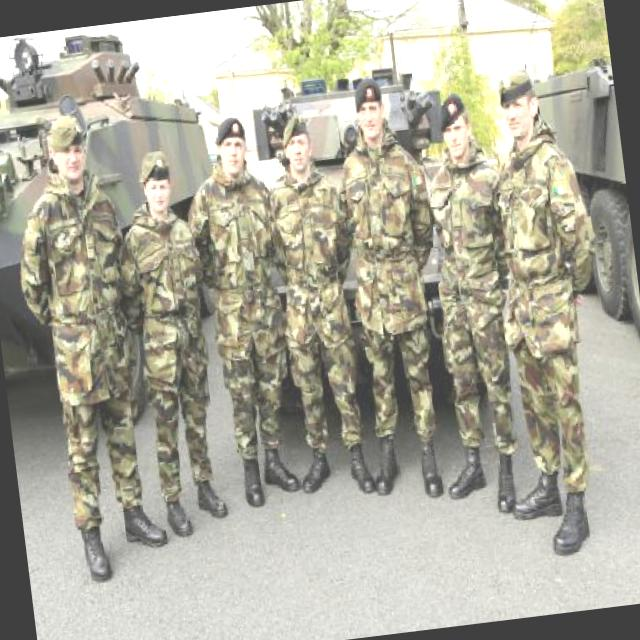Person: (0, 106, 169, 589), (474, 55, 622, 562), (399, 85, 539, 518), (328, 73, 466, 504), (175, 114, 308, 512), (110, 145, 232, 538), (258, 111, 376, 498)
